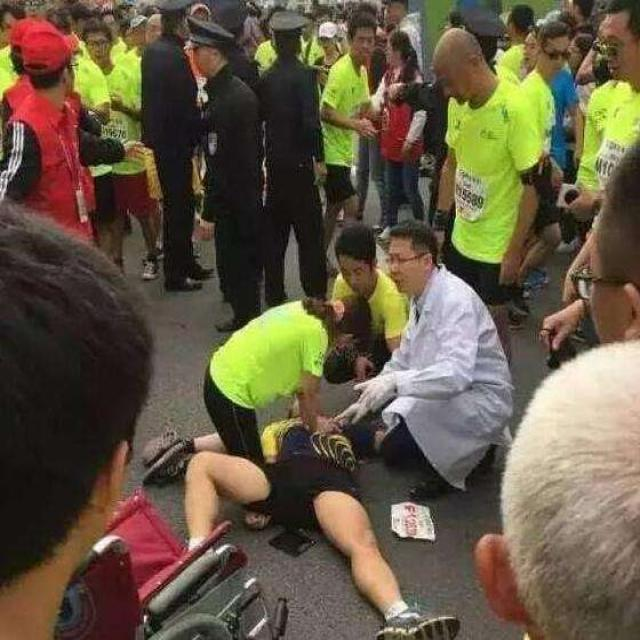10-: (1, 0, 639, 639)
down: (175, 408, 459, 632)
